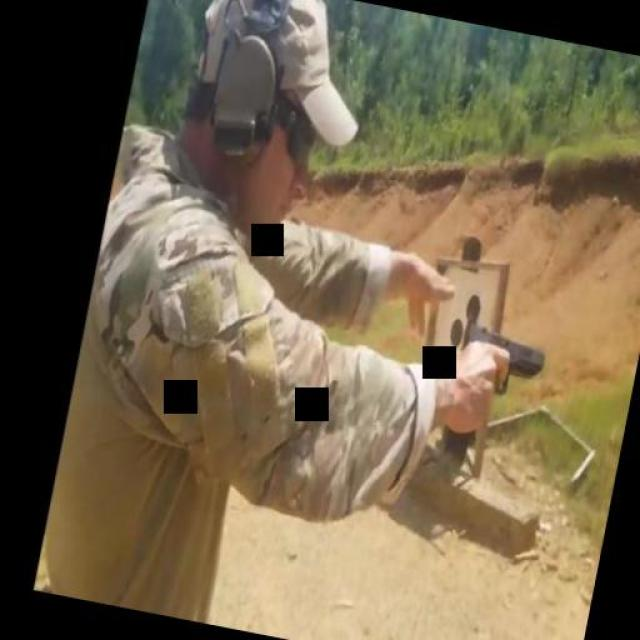gun: (433, 312, 552, 466)
